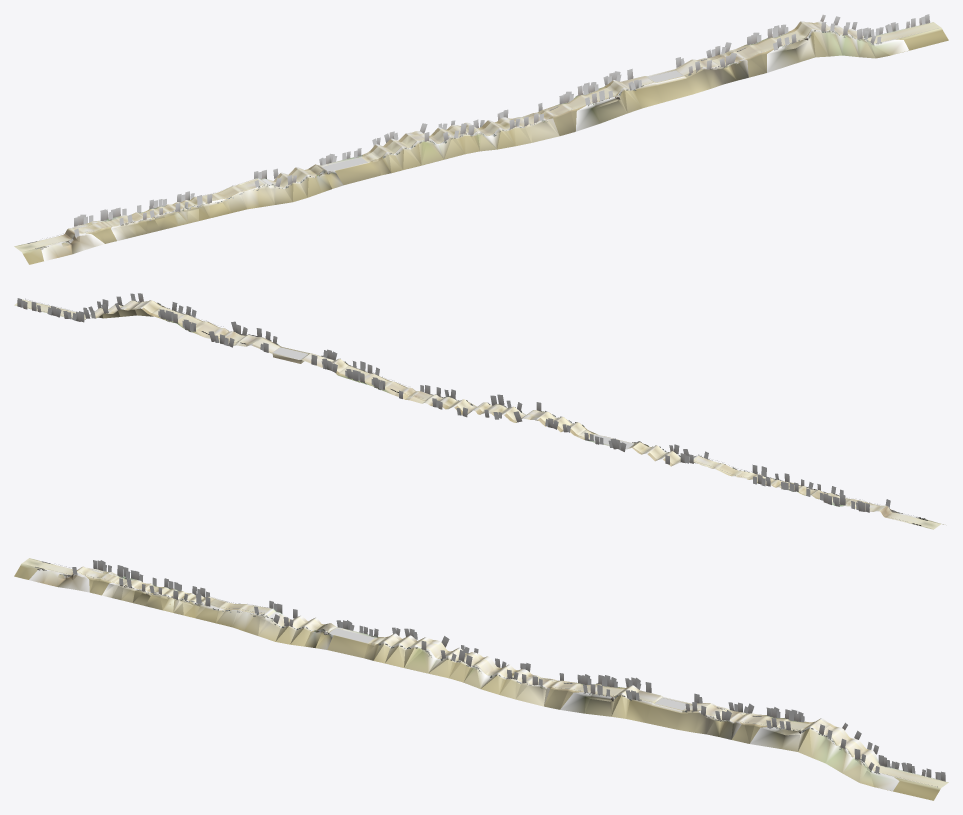
Rendered from Beach_10.fbx.
The picture shows the model from 3 angles, top to bottom: view 1: azimuth 30°, elevation 25°; view 2: azimuth 150°, elevation 25°; view 3: azimuth 330°, elevation 25°; orthographic projection.
Parts seen in each view (by area): view 1: Mountain_01, Tree_01, Ground_01, Road_01; view 2: Tree_01, Ground_01, Road_01; view 3: Mountain_01, Tree_01, Road_01, Ground_01.
Boxes of the visible parts, <box> form: Mountain_01: <box>41,29,908,261</box>; Tree_01: <box>40,14,929,249</box>; Ground_01: <box>15,22,940,251</box>; Road_01: <box>14,21,948,264</box>; Tree_01: <box>17,293,925,519</box>; Ground_01: <box>15,300,940,528</box>; Road_01: <box>14,299,943,529</box>; Mountain_01: <box>29,569,899,791</box>; Tree_01: <box>37,560,945,781</box>; Road_01: <box>14,558,948,800</box>; Ground_01: <box>22,558,947,787</box>.
Bounding box in the file's own units: 93029 × 4135 × 3641.
